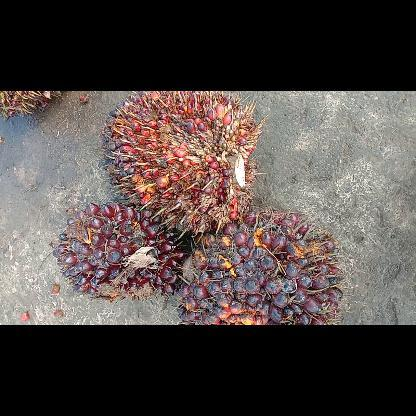Kurang masak: (176, 210, 344, 324), (53, 202, 183, 298)
TBS masak: (100, 91, 264, 231)
